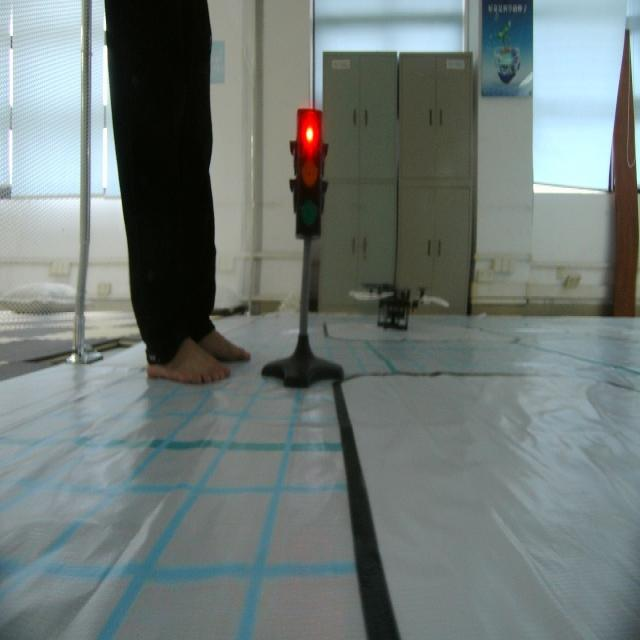red: (290, 106, 324, 240)
